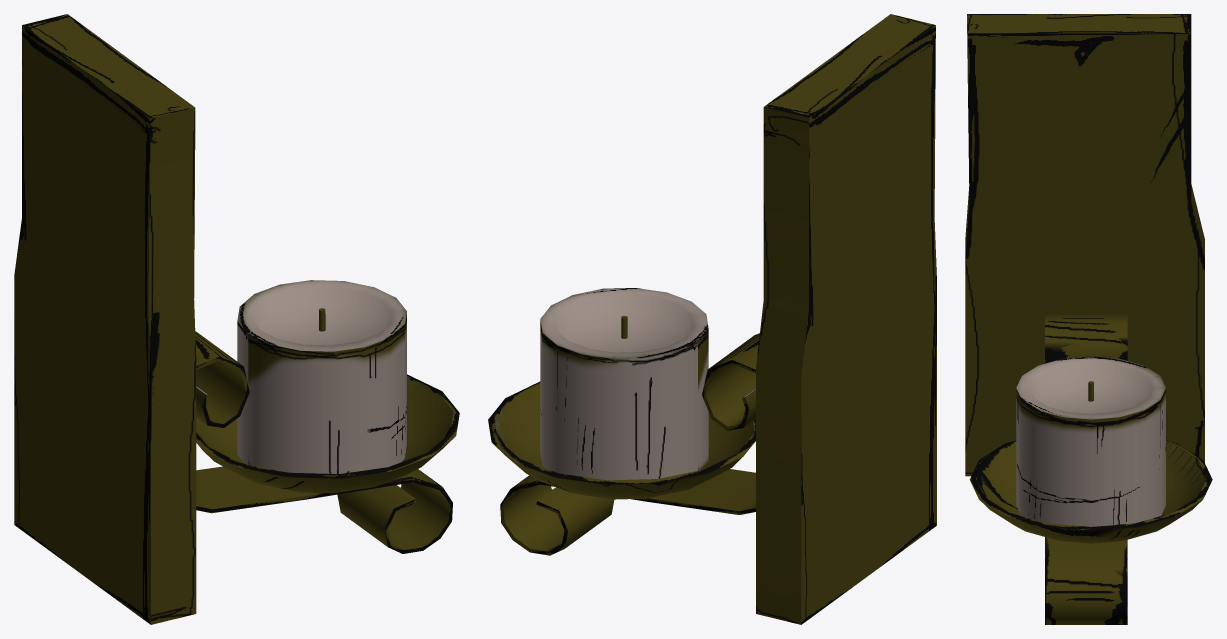
Rendered from Candle.glb.
The picture shows the model from 3 angles, left to right: view 1: azimuth 30°, elevation 25°; view 2: azimuth 150°, elevation 25°; view 3: azimuth 270°, elevation 25°; orthographic projection. The views are drawn at different scales.
Parts seen in each view (by area): view 1: Wood_low, Candle_low.001, Metal_low, Bowl_low; view 2: Wood_low, Candle_low.001, Metal_low, Bowl_low; view 3: Wood_low, Candle_low.001, Metal_low, Bowl_low.
Boxes of the visible parts, left/top/right/bottom form: Wood_low: left=14, top=14, right=196, bottom=624; Candle_low.001: left=237, top=280, right=406, bottom=473; Metal_low: left=195, top=331, right=452, bottom=553; Bowl_low: left=196, top=374, right=459, bottom=493; Wood_low: left=756, top=14, right=936, bottom=624; Candle_low.001: left=540, top=288, right=708, bottom=480; Metal_low: left=500, top=333, right=759, bottom=555; Bowl_low: left=488, top=381, right=755, bottom=499; Wood_low: left=965, top=14, right=1204, bottom=476; Candle_low.001: left=1016, top=356, right=1165, bottom=526; Metal_low: left=1045, top=314, right=1127, bottom=624; Bowl_low: left=969, top=440, right=1212, bottom=543.
Bounding box in the file's own units: 0.4381 × 0.6246 × 0.2948.
1 material, 1 textured.
